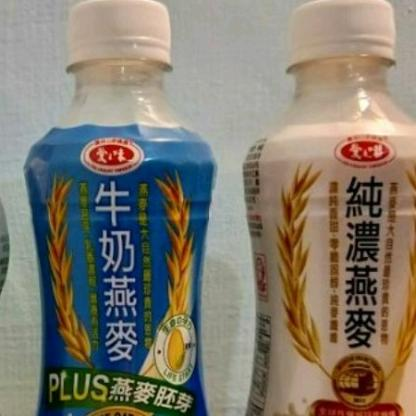Plastic Bottle: (24, 0, 214, 416), (244, 0, 416, 416)
